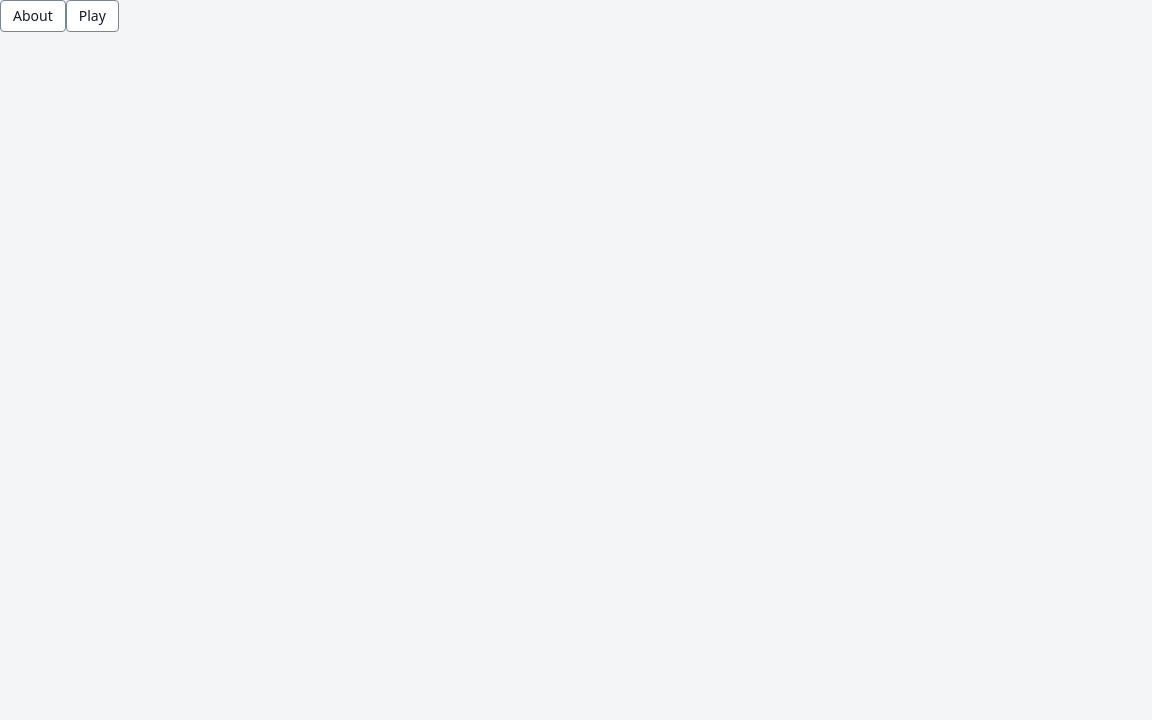
Test: Modal › returns focus after closing from a button inside
Press Tab
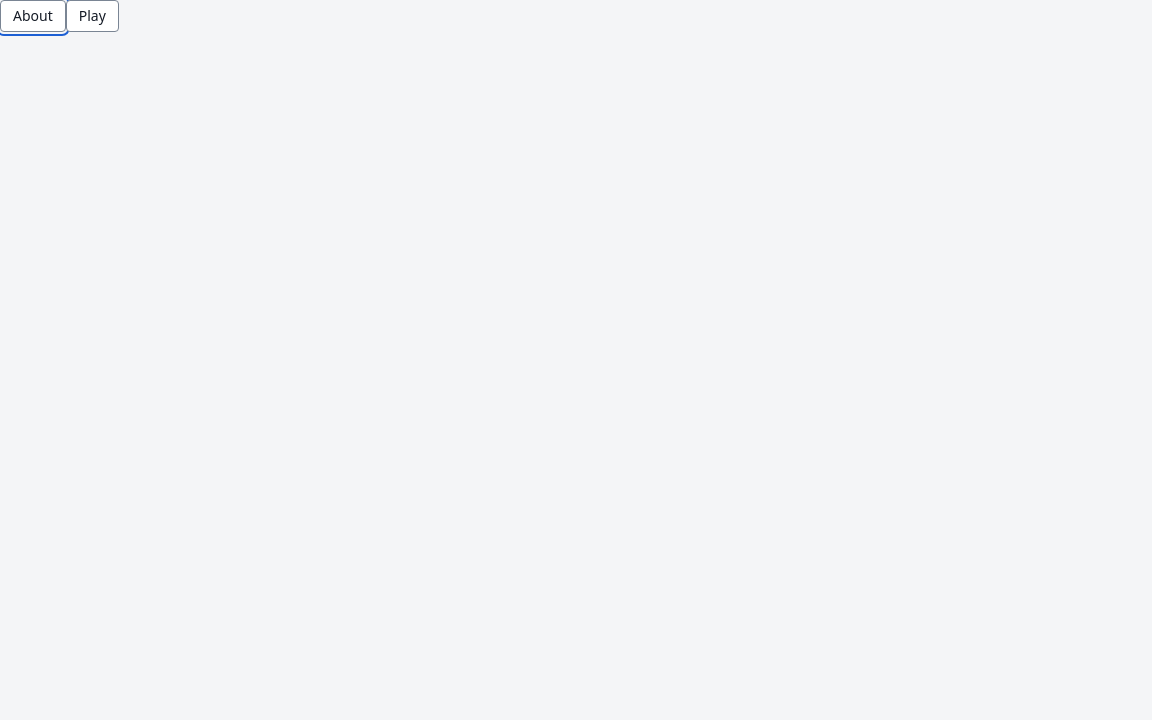
Press Enter
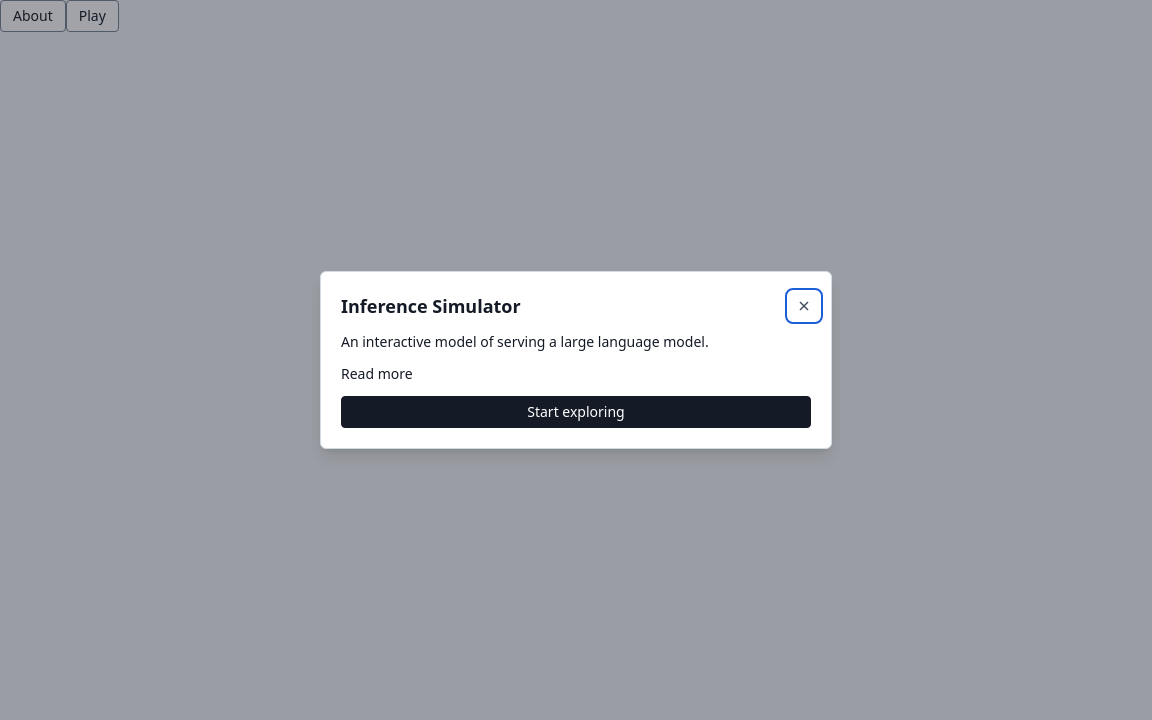
Now the dialog "Inference Simulator" is shown, box [320,271,832,449]
Click the button "Start exploring". click: (576,412)
box: [341,396,811,428]
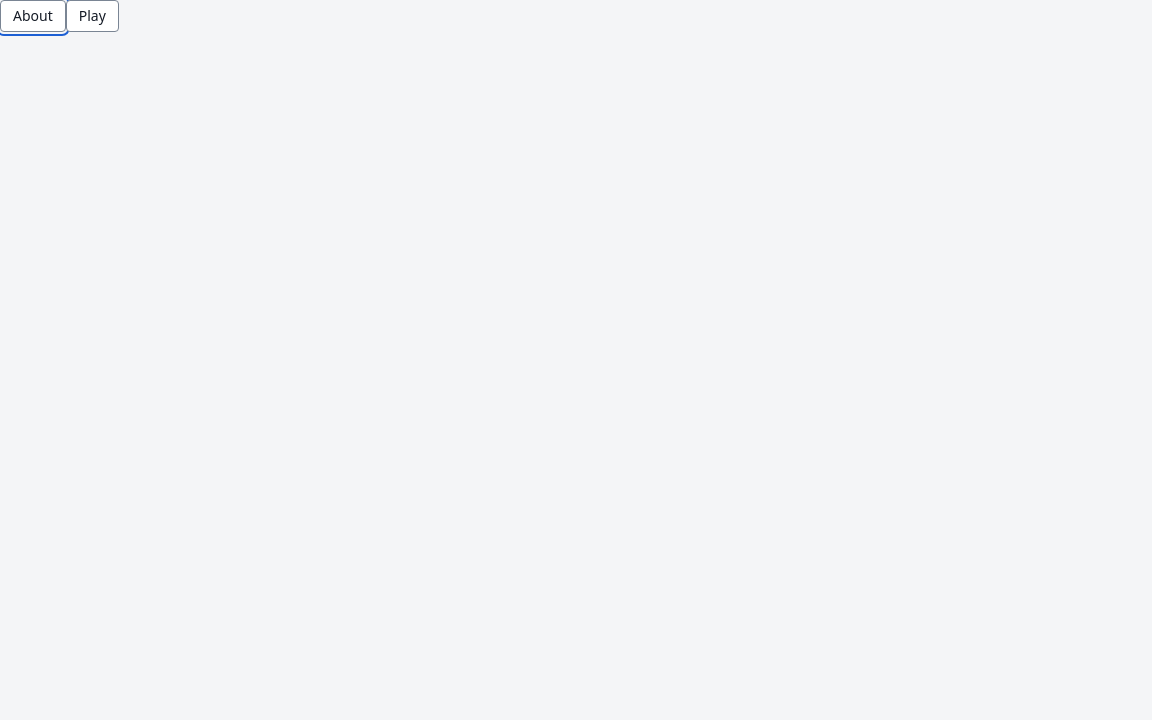
Now the heading "Inference Simulator" is gone
